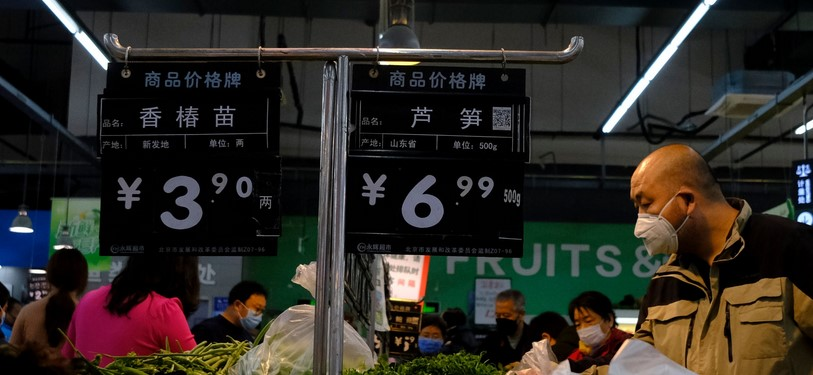face_with_mask: (627, 144, 705, 256), (572, 290, 616, 345), (223, 281, 267, 332), (489, 289, 526, 338), (414, 317, 447, 354)
